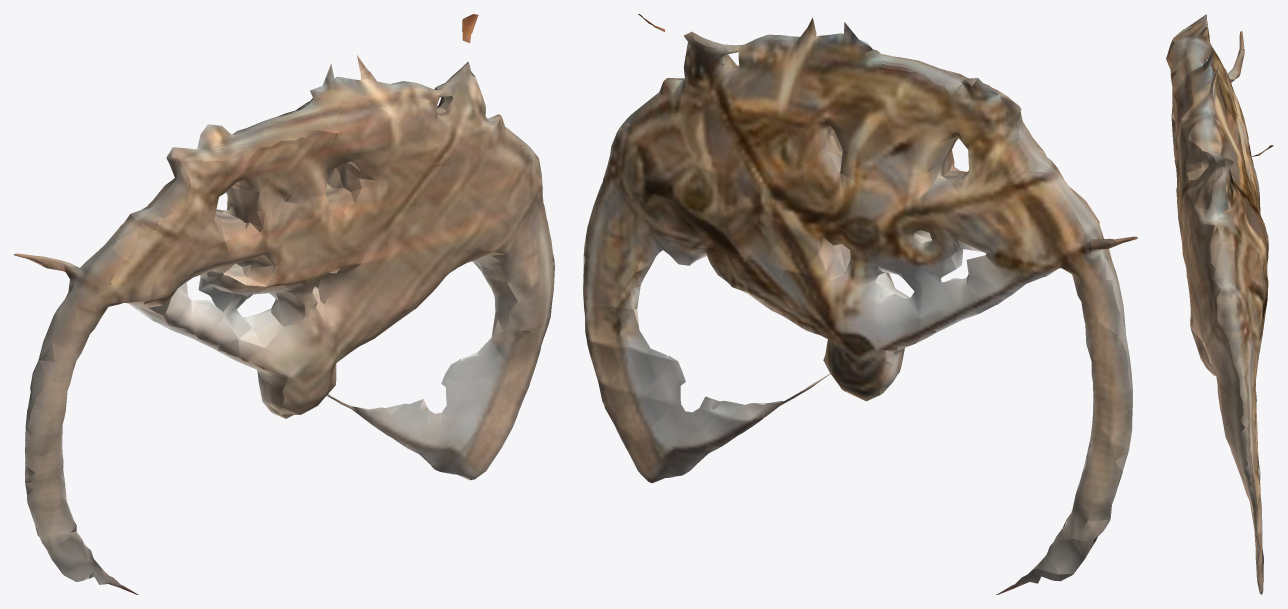
Rendered from 13_34_33_21_gilt-bronze-clock.glb.
The picture shows the model from 3 angles, left to right: view 1: azimuth 30°, elevation 25°; view 2: azimuth 150°, elevation 25°; view 3: azimuth 270°, elevation 25°; orthographic projection. The views are drawn at different scales.
Parts seen in each view (by area): view 1: world; view 2: world; view 3: world.
Boxes of the visible parts, x1,y1,x2,y2 form: world: [14, 14, 554, 594]; world: [583, 14, 1137, 594]; world: [1166, 14, 1273, 594].
Bounding box in the file's own units: 0.6235 × 0.5553 × 0.1097.
1 material, 1 textured.
